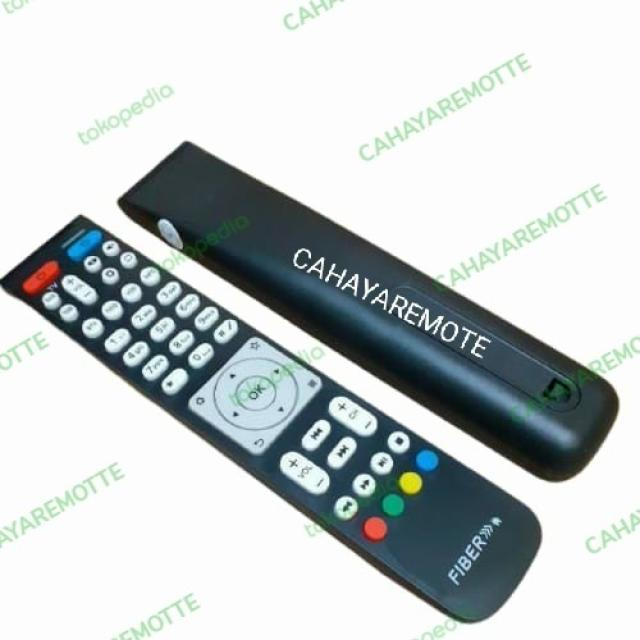remote: (0, 218, 543, 624), (119, 137, 622, 490)
